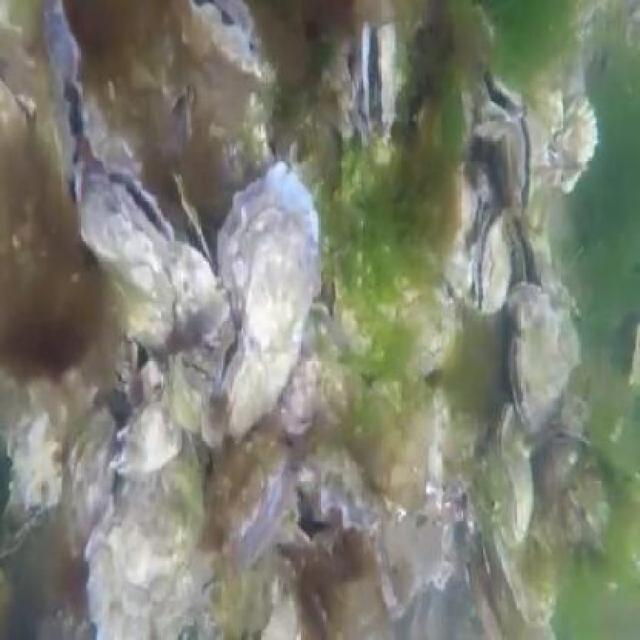Oyster-Closed: (508, 296, 581, 424), (187, 0, 270, 82), (496, 400, 535, 533), (311, 36, 359, 138), (0, 5, 35, 129), (474, 209, 513, 315), (492, 119, 531, 225), (172, 350, 218, 431)
Oyster-Indeterminate: (85, 433, 217, 640), (491, 509, 560, 625), (83, 72, 154, 177), (170, 241, 229, 356), (66, 412, 117, 545), (112, 386, 180, 477), (400, 295, 456, 372), (553, 97, 597, 167), (528, 97, 563, 167)
Oyster-Open: (220, 163, 323, 445), (82, 164, 176, 349), (213, 438, 290, 574), (44, 0, 84, 211), (317, 449, 391, 534), (359, 17, 398, 138), (474, 68, 527, 145), (513, 226, 544, 291)
